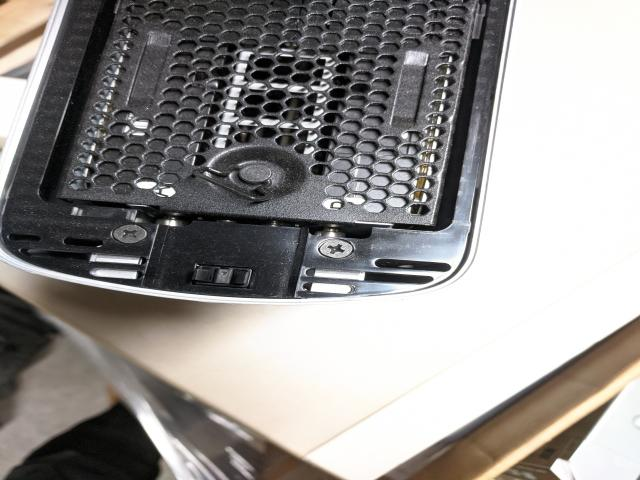CRS: (113, 224, 147, 243), (320, 240, 354, 259)
